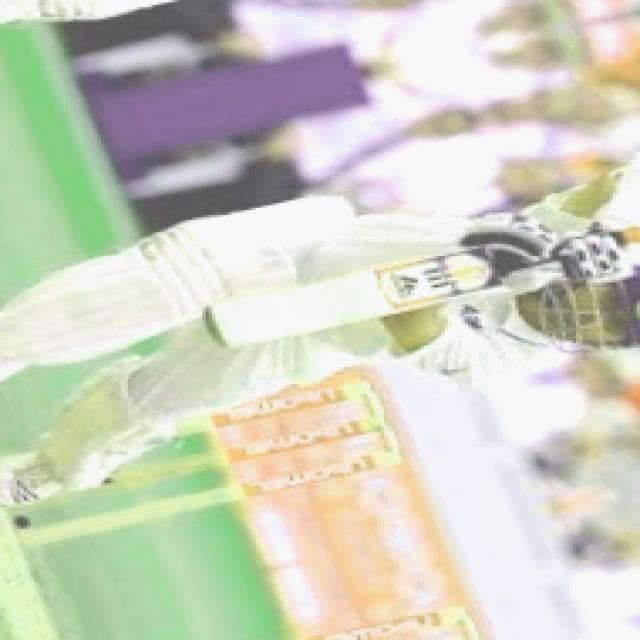toe: (193, 301, 254, 354)
